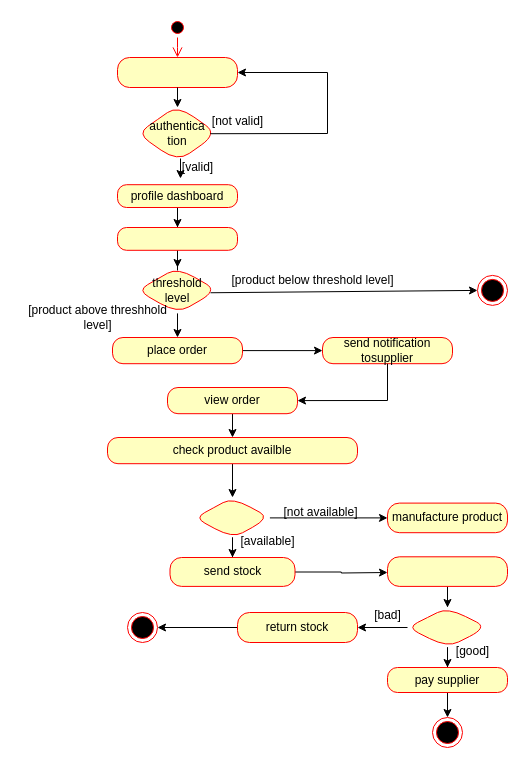
Image size: 525x765. Some labels were removed from this diagram. The box of each missing label's shape, as (x1, y1, x2, y2) in pixels:
check notification: (116, 226, 238, 250)
check quality: (406, 606, 488, 648)
login: (116, 56, 238, 88)
products: (194, 496, 270, 538)
recieve stock: (386, 556, 508, 586)
